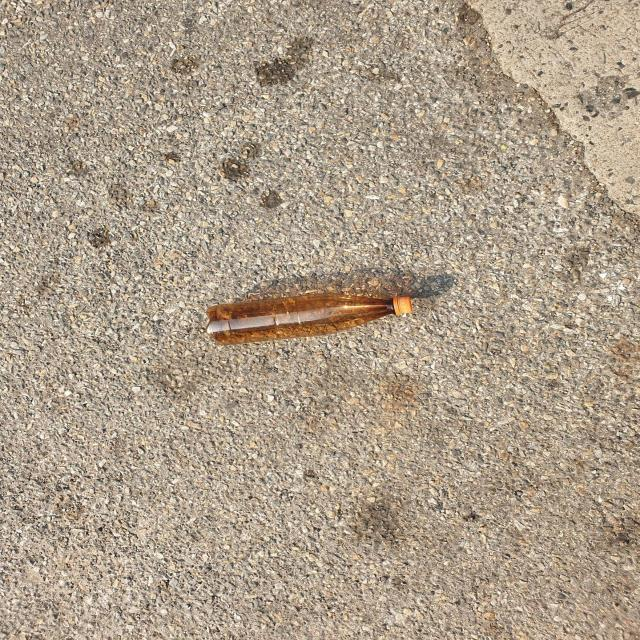plastic: (206, 293, 412, 345)
